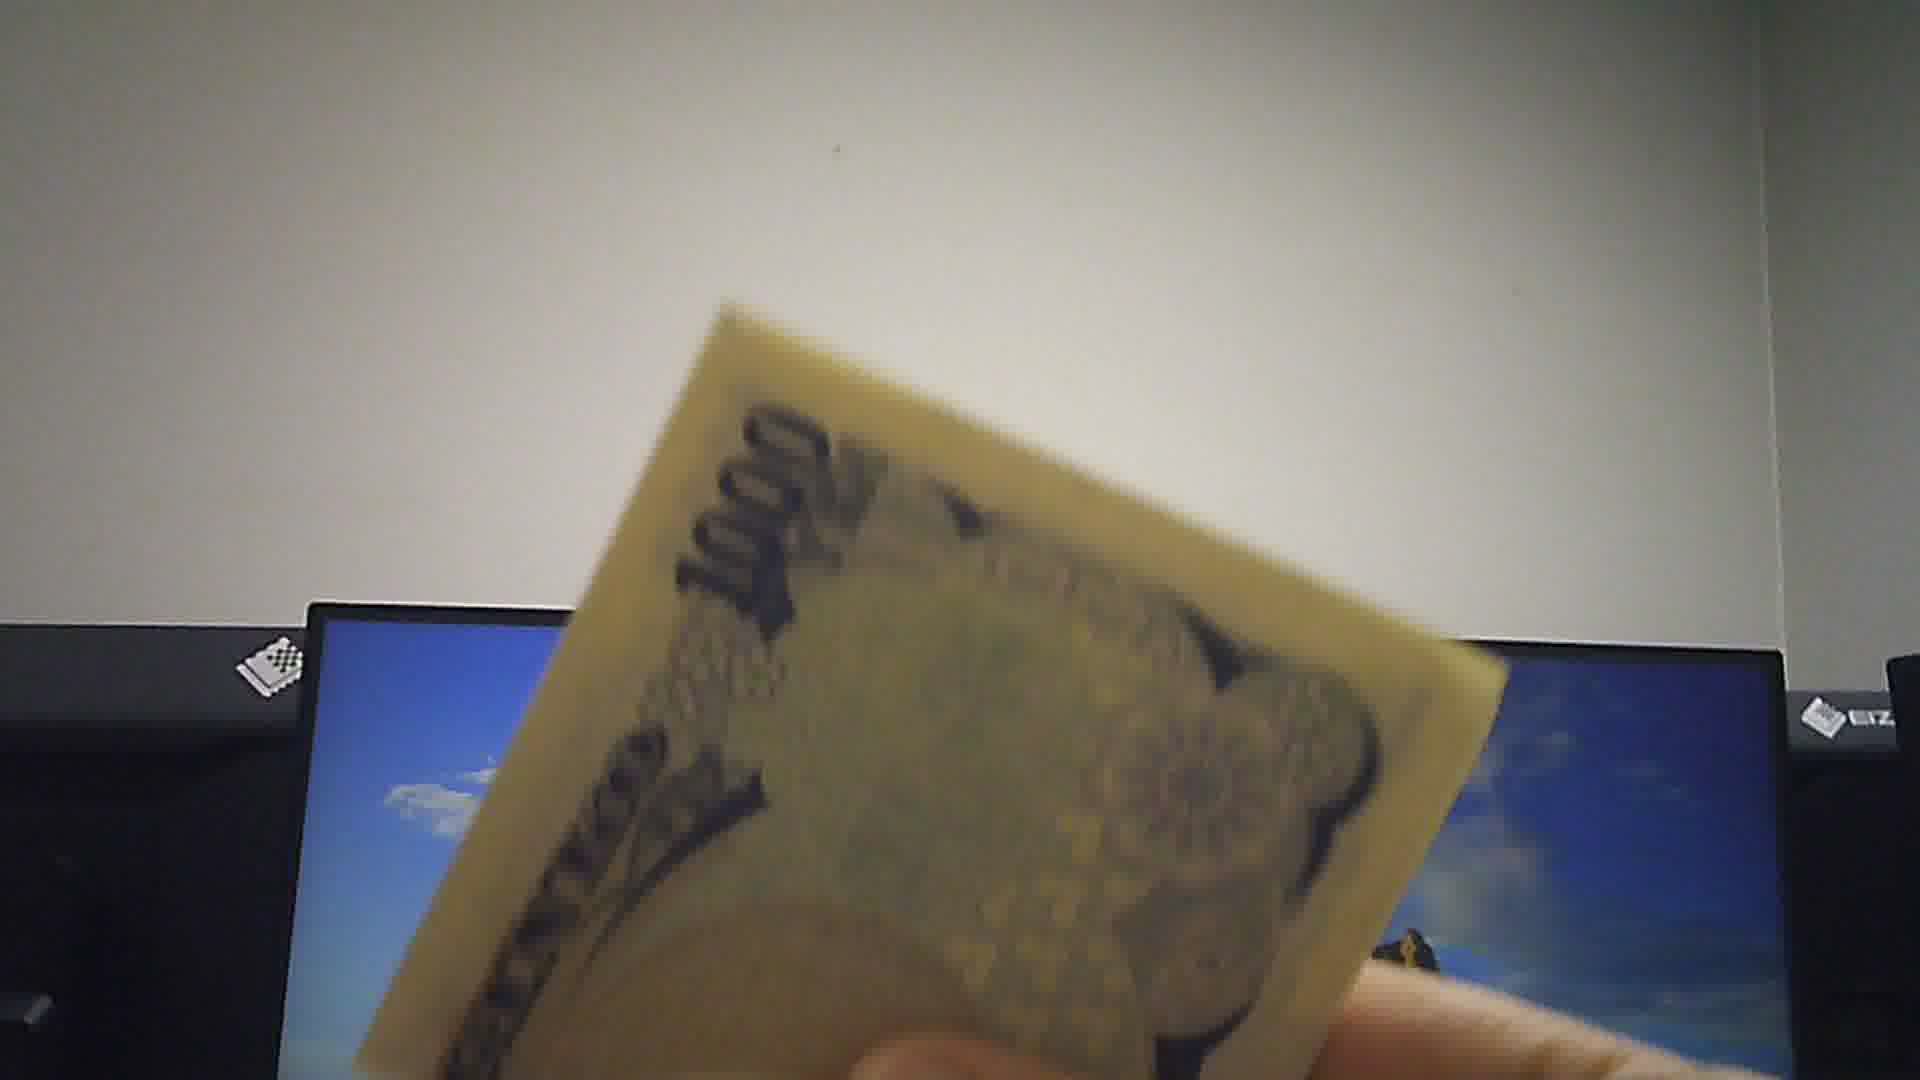1,000 Yen: (405, 293, 1478, 1079)
